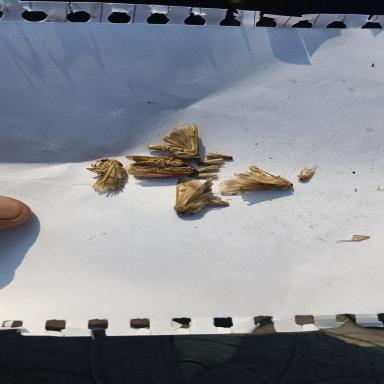abw: (172, 178, 232, 216), (145, 122, 203, 161), (218, 164, 292, 194), (85, 156, 128, 193), (122, 154, 191, 172), (122, 164, 200, 179)
pbw: (296, 164, 322, 182), (191, 163, 220, 173), (205, 151, 234, 160), (197, 157, 225, 165), (188, 172, 219, 178)
